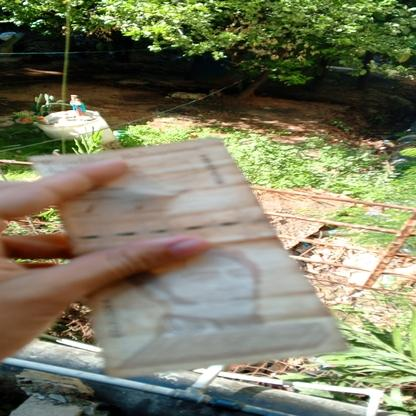vef_front: (28, 138, 348, 378)
